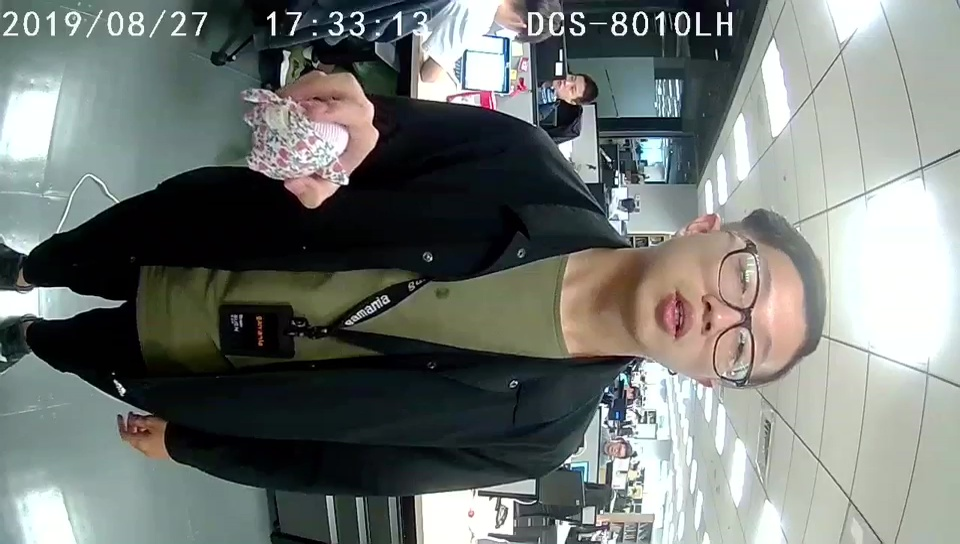pig: (243, 90, 349, 187)
